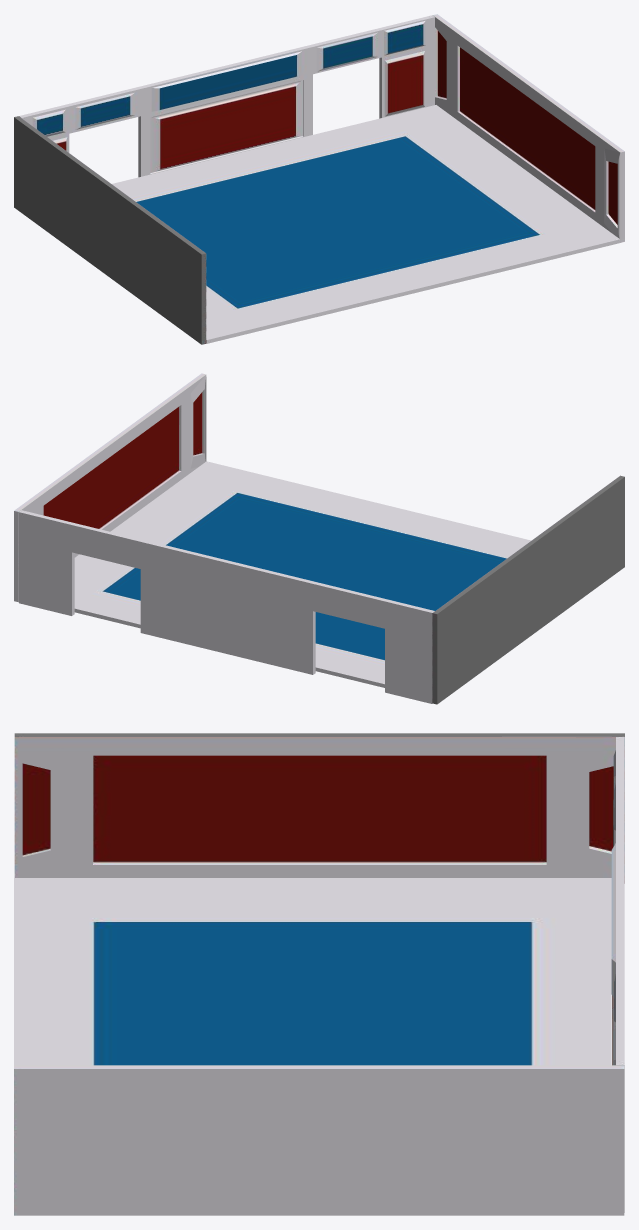
The model's file is ATO3.fbx.
3 views of the same model, one above another, from view 1: azimuth 30°, elevation 25°; view 2: azimuth 150°, elevation 25°; view 3: azimuth 270°, elevation 25° (orthographic). The views are drawn at different scales.
Visible parts, largest first — view 1: PAREDE_TRAS1; view 2: PAREDE_TRAS1; view 3: PAREDE_TRAS1.
Part boxes in pixels (<box>): PAREDE_TRAS1: <box>14,14,624,344</box>; PAREDE_TRAS1: <box>14,373,624,704</box>; PAREDE_TRAS1: <box>14,733,624,1215</box>.
Size of the model in its own units: 34.09 by 7.01 by 26.22.
1 material, 1 textured.
